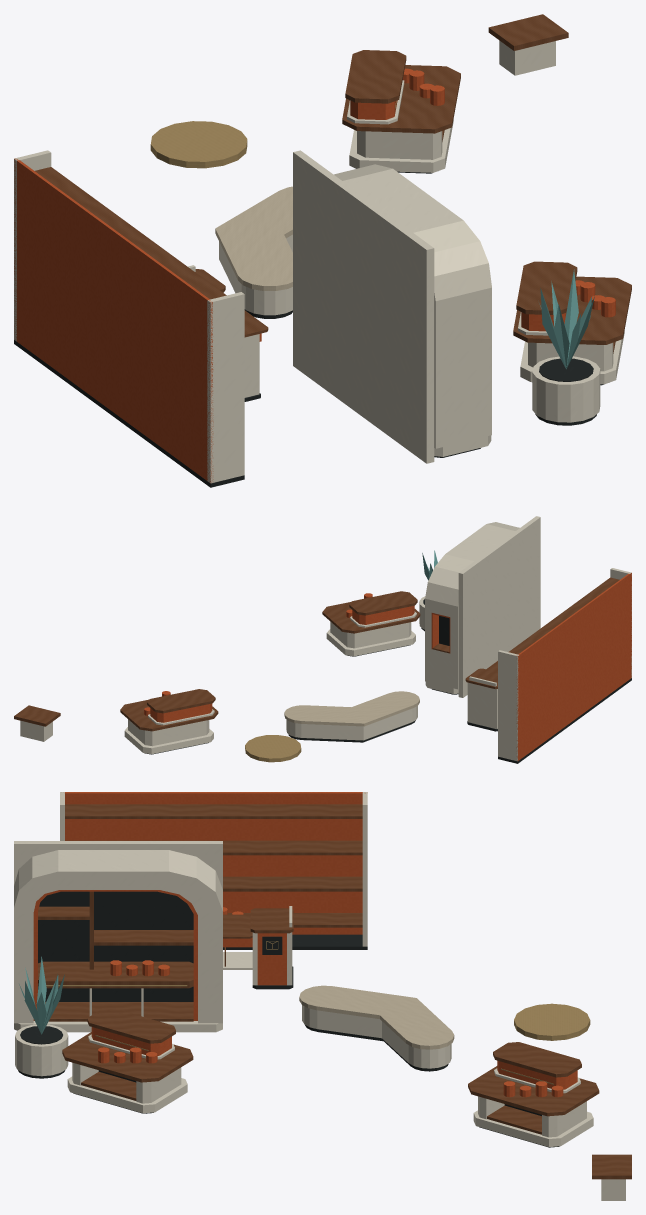
File: SHOP_D09_S72_F392__fitout.glb
3 views of the same model, one above another, from view 1: azimuth 30°, elevation 25°; view 2: azimuth 150°, elevation 25°; view 3: azimuth 270°, elevation 25° (orthographic). The views are drawn at different scales.
Visible parts, largest first — view 1: SHOP_D09_S72_F392__fitout__ivory_enamel, SHOP_D09_S72_F392__fitout__retail_terracotta_enamel, SHOP_D09_S72_F392__fitout__warm_walnut, SHOP_D09_S72_F392__fitout__oatmeal_weave, SHOP_D09_S72_F392__fitout__champagne_metal, SHOP_D09_S72_F392__fitout__dark_rubber, SHOP_D09_S72_F392__fitout__quiet_teal; view 2: SHOP_D09_S72_F392__fitout__ivory_enamel, SHOP_D09_S72_F392__fitout__retail_terracotta_enamel, SHOP_D09_S72_F392__fitout__warm_walnut, SHOP_D09_S72_F392__fitout__oatmeal_weave, SHOP_D09_S72_F392__fitout__dark_rubber, SHOP_D09_S72_F392__fitout__champagne_metal; view 3: SHOP_D09_S72_F392__fitout__warm_walnut, SHOP_D09_S72_F392__fitout__ivory_enamel, SHOP_D09_S72_F392__fitout__retail_terracotta_enamel, SHOP_D09_S72_F392__fitout__dark_rubber, SHOP_D09_S72_F392__fitout__oatmeal_weave, SHOP_D09_S72_F392__fitout__champagne_metal, SHOP_D09_S72_F392__fitout__quiet_teal.
Part boxes in pixels (<box>): SHOP_D09_S72_F392__fitout__ivory_enamel: <box>14,40,624,483</box>; SHOP_D09_S72_F392__fitout__retail_terracotta_enamel: <box>14,68,615,483</box>; SHOP_D09_S72_F392__fitout__warm_walnut: <box>35,14,631,353</box>; SHOP_D09_S72_F392__fitout__oatmeal_weave: <box>215,186,292,290</box>; SHOP_D09_S72_F392__fitout__champagne_metal: <box>150,100,396,168</box>; SHOP_D09_S72_F392__fitout__dark_rubber: <box>14,171,603,487</box>; SHOP_D09_S72_F392__fitout__quiet_teal: <box>539,269,594,369</box>; SHOP_D09_S72_F392__fitout__ivory_enamel: <box>20,516,631,761</box>; SHOP_D09_S72_F392__fitout__retail_terracotta_enamel: <box>144,573,631,760</box>; SHOP_D09_S72_F392__fitout__warm_walnut: <box>14,577,619,731</box>; SHOP_D09_S72_F392__fitout__oatmeal_weave: <box>284,691,419,726</box>; SHOP_D09_S72_F392__fitout__dark_rubber: <box>145,599,631,763</box>; SHOP_D09_S72_F392__fitout__champagne_metal: <box>245,735,301,762</box>; SHOP_D09_S72_F392__fitout__warm_walnut: <box>38,804,631,1179</box>; SHOP_D09_S72_F392__fitout__ivory_enamel: <box>14,792,625,1200</box>; SHOP_D09_S72_F392__fitout__retail_terracotta_enamel: <box>33,792,577,1097</box>; SHOP_D09_S72_F392__fitout__dark_rubber: <box>18,891,559,1147</box>; SHOP_D09_S72_F392__fitout__oatmeal_weave: <box>299,985,454,1049</box>; SHOP_D09_S72_F392__fitout__champagne_metal: <box>46,941,590,1084</box>; SHOP_D09_S72_F392__fitout__quiet_teal: <box>19,956,64,1034</box>.
Size of the model in its own units: 10.25 by 3 by 10.05.
7 materials, 6 textured.
